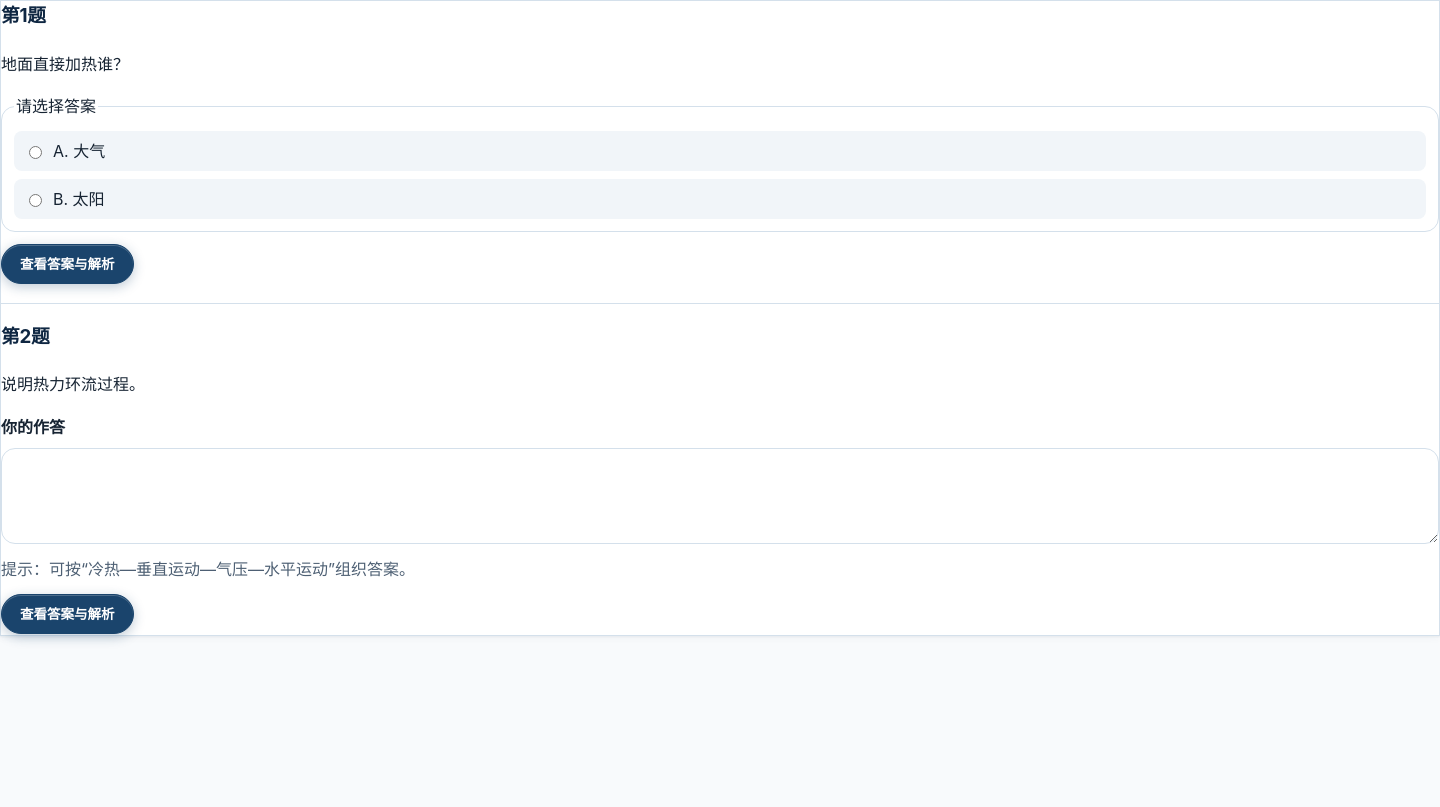
Scenario: PracticePanel › keeps answers hidden until requested and preserves the learner choice
Click the radio button labelled "A. 大气": (36, 153) [29,146,42,159]
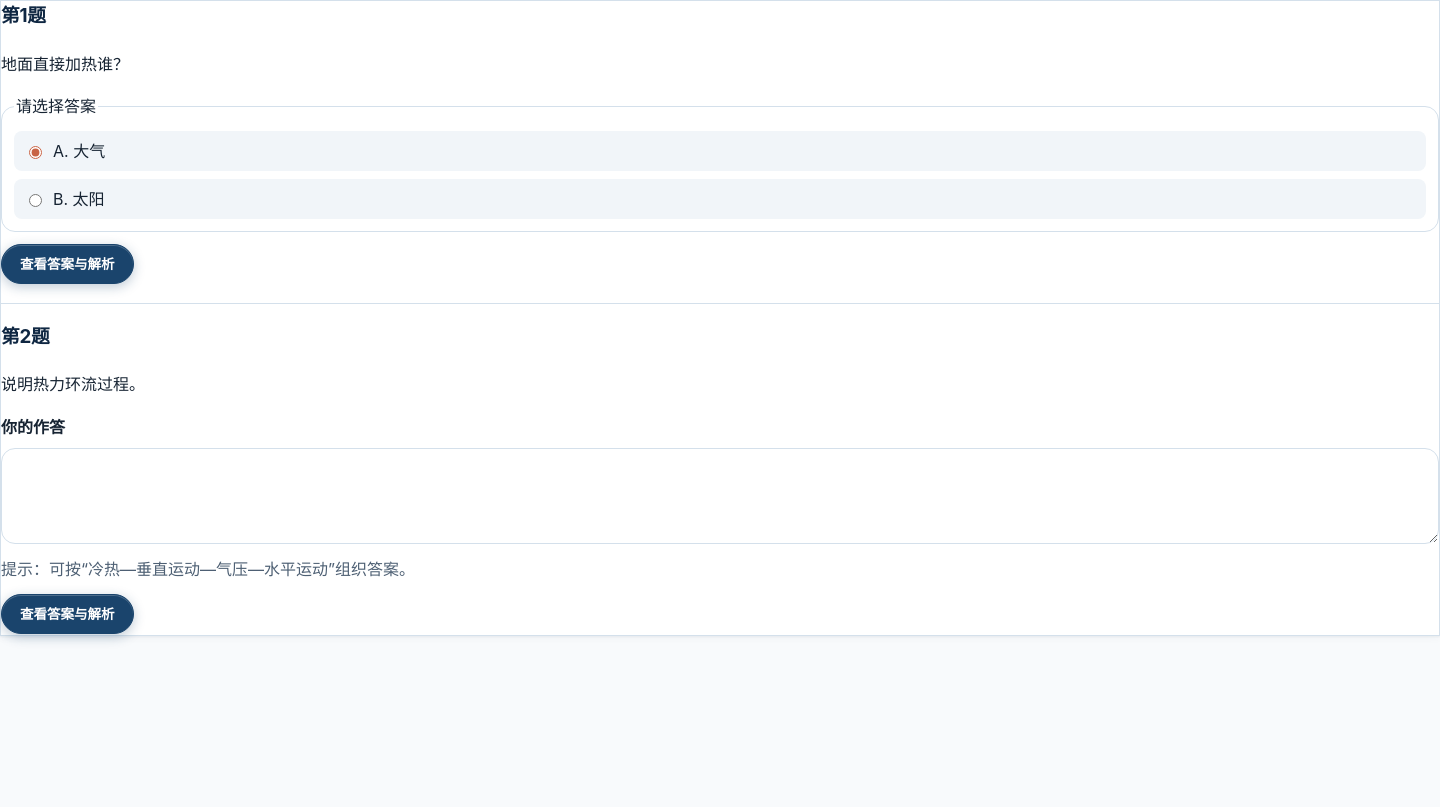
Click the button "查看答案与解析" below "B. 太阳": (67, 265) [1,244,134,285]
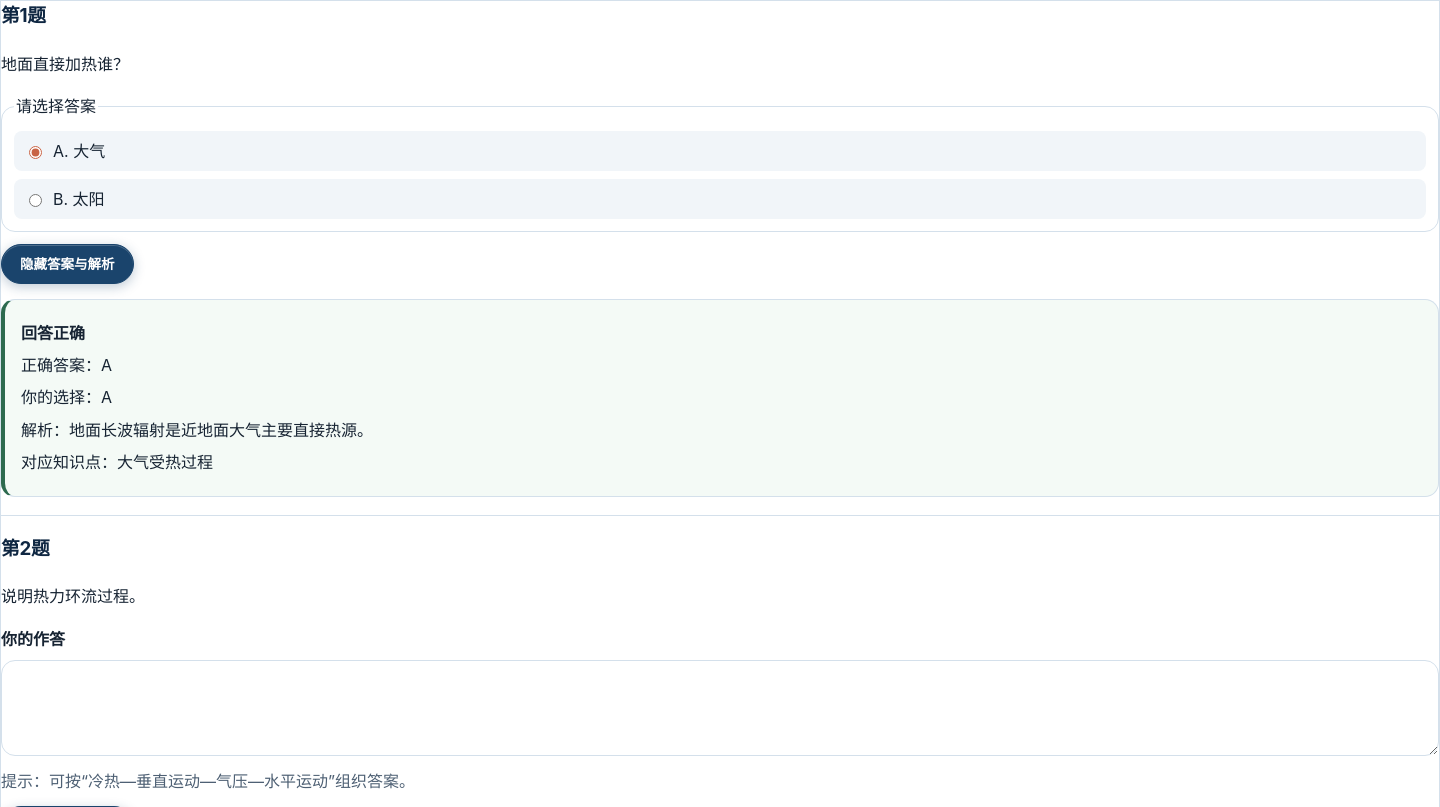
Expected: the radio button labelled "A. 大气" is checked, [29,146,42,159]
Expected: the message "回答正确 正确答案：A 你的选择：A 解析：地面长波辐射是近地面大气主要直接热源。 对应知识点：大气受热过程" is shown, [1,299,1439,497]
